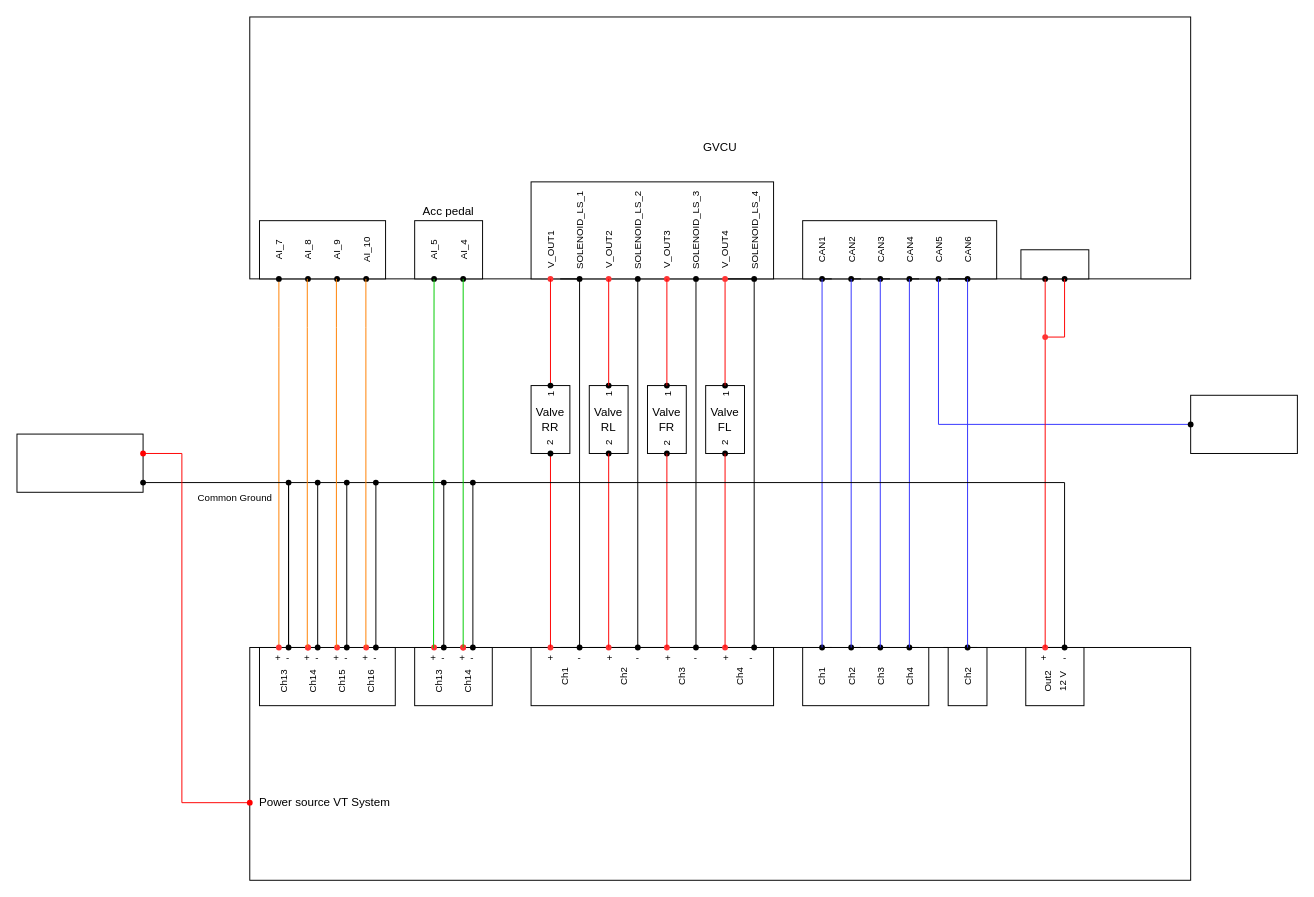
Some shapes in this 1314 by 897 pixel diagram are drawn without their labels. The shapes that lost their labels are listed below. From the top down, each one's box as (x1, y1, x2, y2) in pixels, then its label:
(259, 220, 386, 279): Wheel clutch prs sensors
(530, 181, 774, 279): Wheel clutch Solenoids
(802, 220, 997, 279): CAN-Busses
(1020, 249, 1089, 279): V_KL30
(1190, 394, 1297, 453): Vector CANape Debug HW
(16, 433, 143, 492): Power supply 12 V
(259, 647, 395, 706): VT2816_4
(414, 647, 492, 706): VT2816_3
(530, 647, 774, 706): VT2816_1
(802, 647, 929, 706): VT6104_2
(947, 647, 987, 706): VT6104_1
(1025, 647, 1084, 706): VT7101_1
(249, 647, 1191, 880): VT System - Ghost HIL
